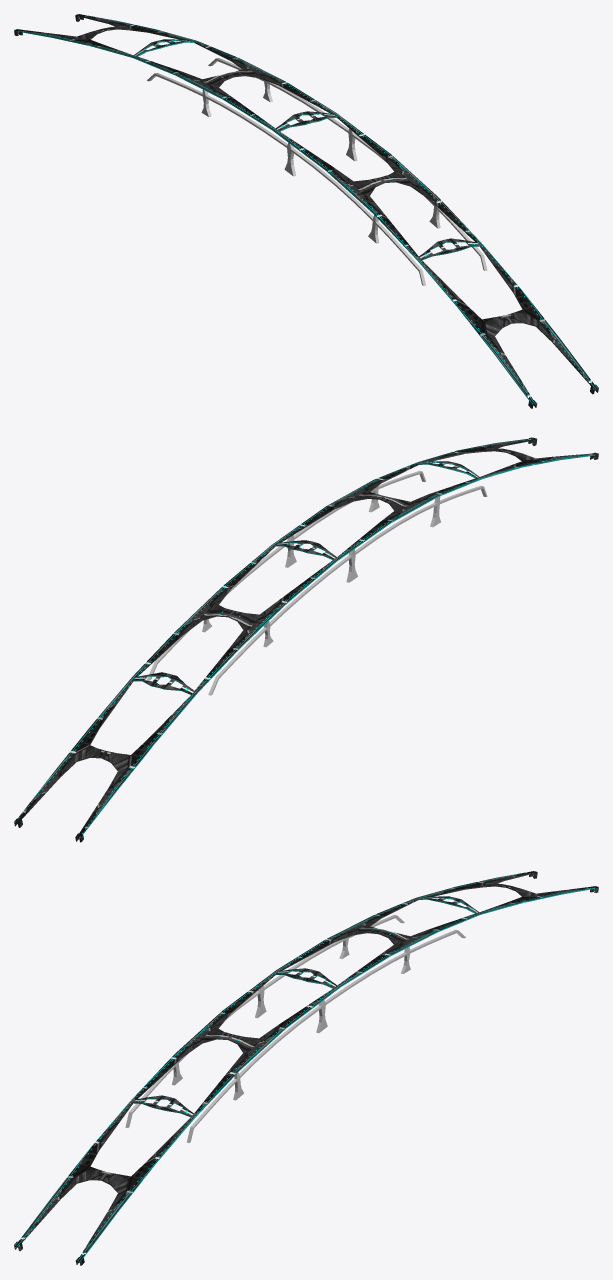
The model's file is Extra_3.FBX.
The picture shows the model from 3 angles, top to bottom: view 1: azimuth 30°, elevation 25°; view 2: azimuth 150°, elevation 25°; view 3: azimuth 330°, elevation 25°; orthographic projection.
Parts seen in each view (by area): view 1: Line021; view 2: Line021; view 3: Line021.
Part boxes in pixels (x1,y1,x2,y2): Line021: [14, 14, 598, 408]; Line021: [14, 437, 598, 842]; Line021: [14, 871, 598, 1265].
Bounding box in the file's own units: 18.63 × 26.63 × 250.
